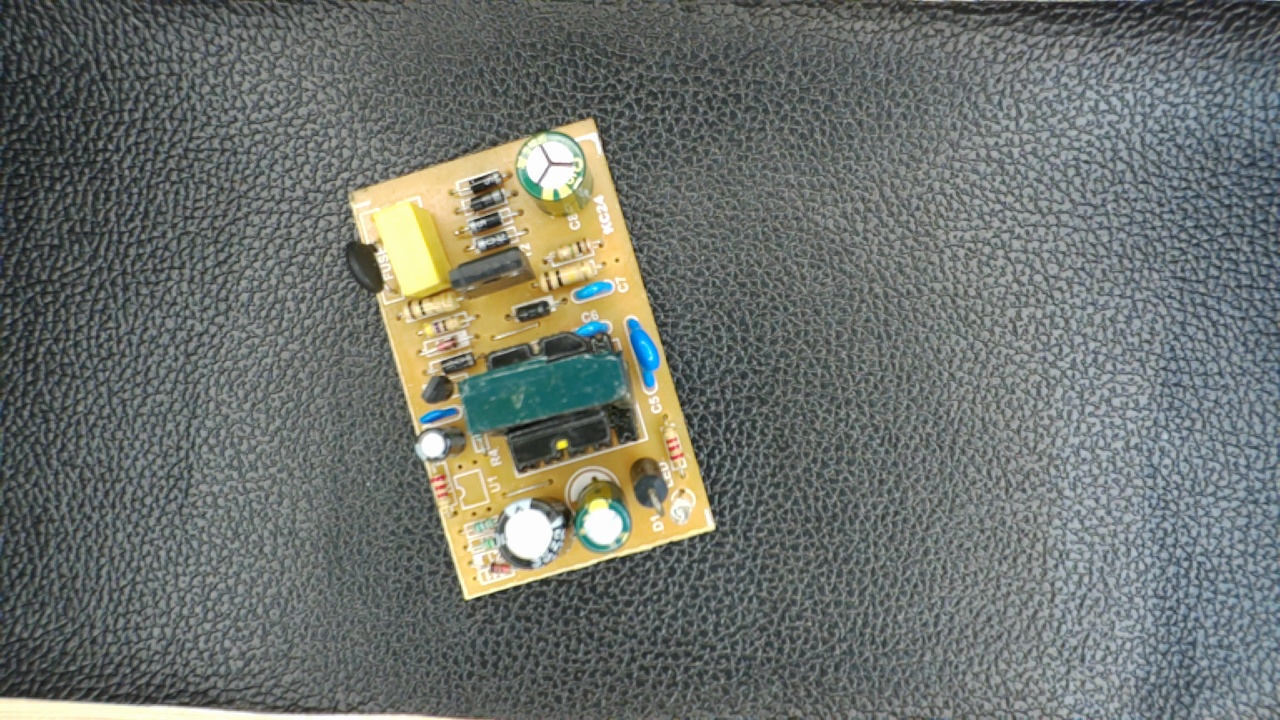fuse: (338, 230, 399, 303)
hv_capacitor: (513, 129, 596, 222)
mov: (623, 308, 665, 398)
